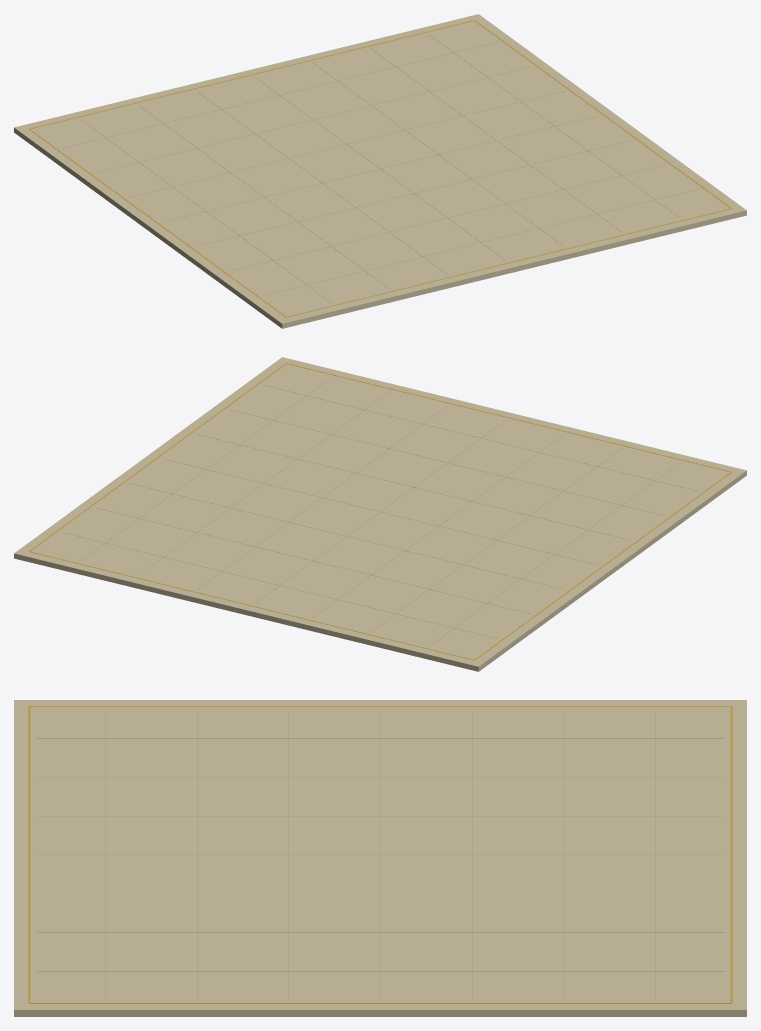
File: trial_arena_court.glb
3 views of the same model, one above another, from view 1: azimuth 30°, elevation 25°; view 2: azimuth 150°, elevation 25°; view 3: azimuth 270°, elevation 25° (orthographic). The views are drawn at different scales.
Visible parts, largest first — view 1: trial_arena_court; view 2: trial_arena_court; view 3: trial_arena_court.
Part boxes in pixels (x1,y1,x2,y2): trial_arena_court: (14,14,746,328); trial_arena_court: (14,357,746,671); trial_arena_court: (14,700,746,1016).
Bounding box in the file's own units: 96 × 1.02 × 96.
